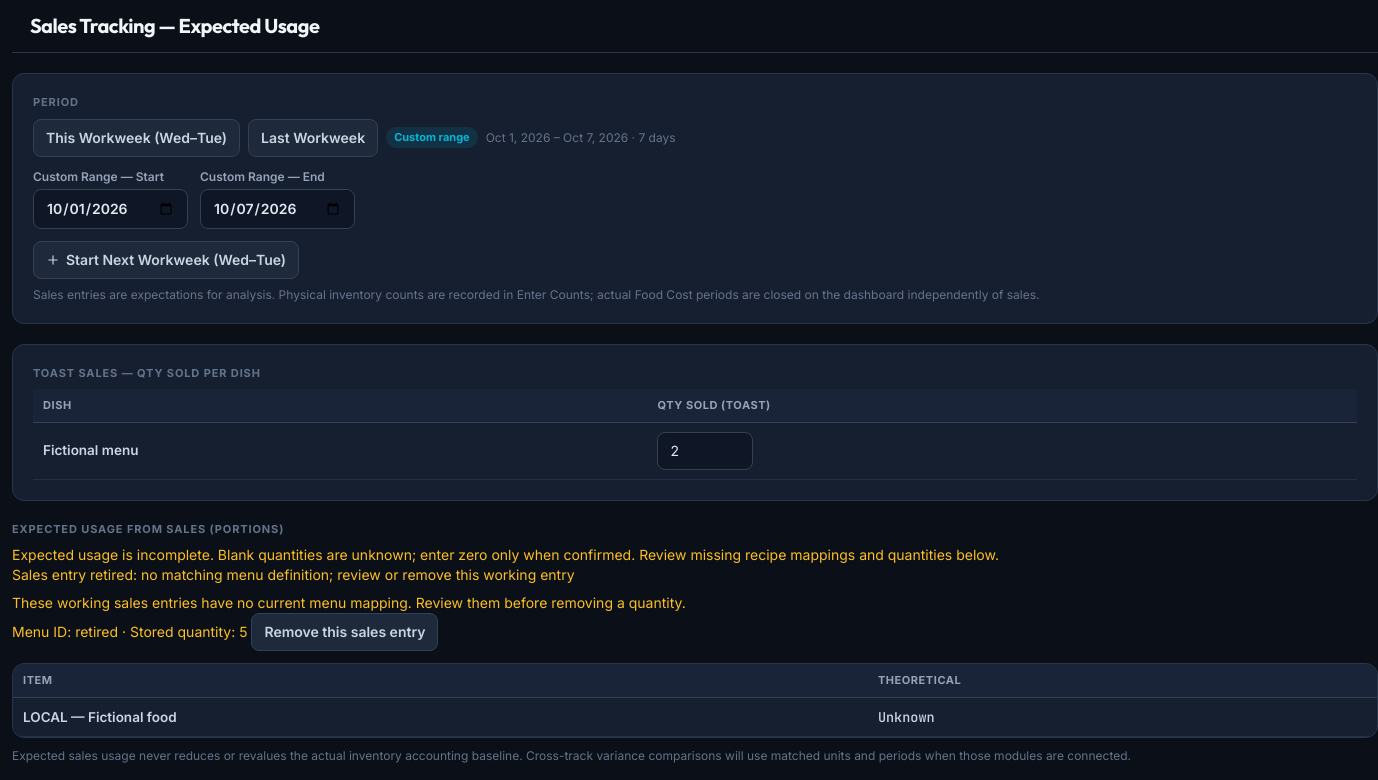
Test: retry refuses a competing change to the removed entry and retains the removal draft
The image size is (1378, 780).
Click the button "Remove this sales entry" at (345, 632), box [251, 613, 438, 651]
Wait 700 ms
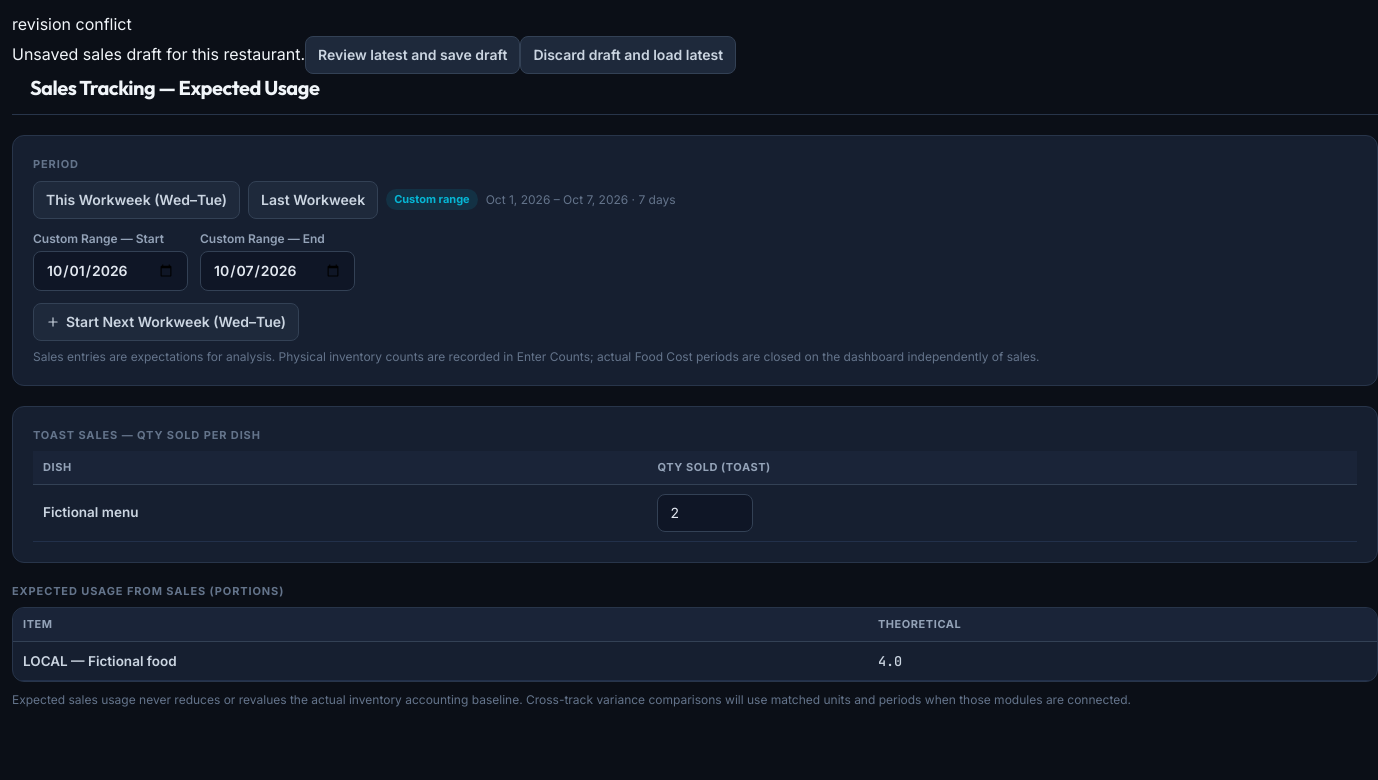
Click the button with test id "retry-sales-save" at (413, 55), box [305, 36, 520, 74]
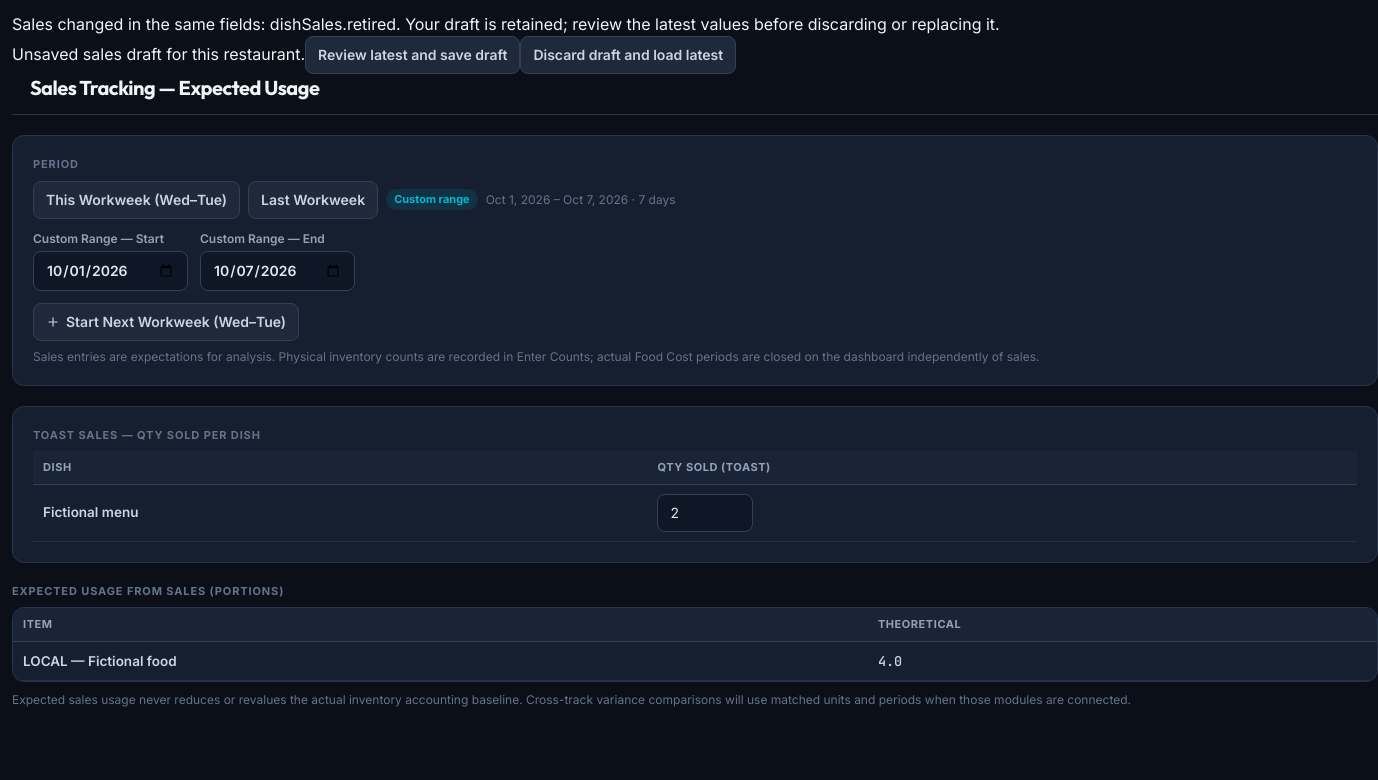
Check: the text "dishSales.retired" is shown, box [12, 14, 1000, 34]
